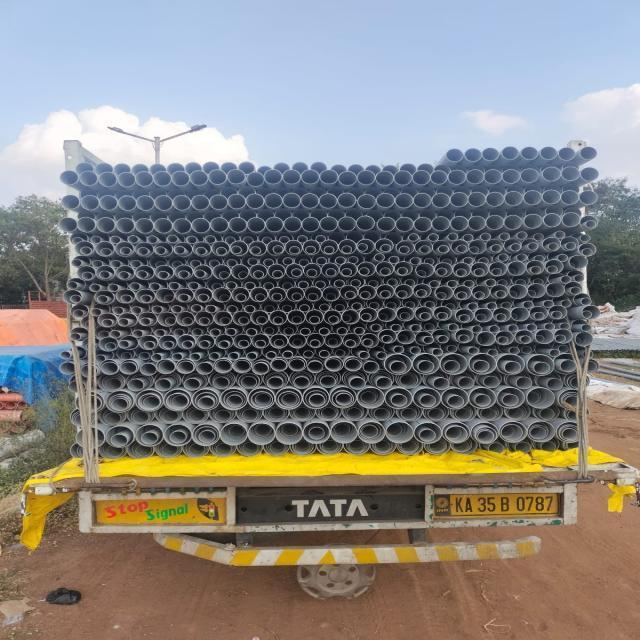pipe: (498, 421, 531, 446), (414, 422, 444, 448), (526, 421, 557, 446), (525, 352, 556, 376), (75, 391, 104, 416), (443, 422, 474, 445), (386, 419, 413, 445), (359, 421, 387, 446), (105, 426, 135, 449), (496, 353, 526, 376), (413, 353, 441, 377), (134, 425, 163, 448), (192, 389, 221, 412), (558, 389, 587, 412), (468, 353, 497, 376), (440, 353, 469, 376), (105, 391, 135, 413), (385, 388, 416, 409), (471, 422, 499, 445), (414, 388, 442, 411), (275, 423, 303, 446), (470, 388, 498, 411), (220, 423, 248, 446), (496, 388, 525, 410), (192, 423, 221, 445), (164, 423, 193, 445), (220, 389, 249, 411), (163, 389, 191, 411), (442, 389, 471, 410), (155, 439, 184, 460), (135, 390, 164, 411), (331, 422, 358, 444), (303, 423, 330, 445), (528, 387, 555, 409), (357, 387, 386, 407), (331, 387, 357, 409), (209, 370, 235, 392), (275, 388, 302, 409), (386, 354, 413, 375), (75, 428, 106, 446), (564, 373, 593, 392), (367, 367, 396, 386), (557, 422, 582, 444), (249, 423, 274, 445), (250, 388, 276, 409), (304, 388, 330, 409), (237, 370, 264, 390), (533, 372, 564, 389), (344, 435, 370, 455), (553, 354, 579, 374), (208, 405, 238, 422), (181, 373, 209, 391), (395, 438, 424, 455), (476, 403, 505, 420), (126, 406, 155, 423), (450, 404, 477, 422), (342, 403, 369, 421), (264, 371, 291, 389), (291, 438, 319, 455), (127, 442, 155, 459), (315, 369, 343, 386), (59, 288, 87, 305), (317, 438, 344, 455), (263, 440, 290, 457), (368, 404, 395, 421), (342, 370, 369, 387), (288, 370, 315, 387), (560, 391, 585, 409), (155, 373, 180, 391), (370, 440, 398, 456), (100, 443, 128, 459), (396, 406, 424, 422), (372, 371, 394, 391), (54, 168, 77, 187), (504, 403, 533, 418), (445, 426, 469, 444), (425, 439, 452, 455), (236, 406, 263, 422), (316, 405, 343, 421), (237, 439, 262, 456), (211, 440, 236, 457), (531, 440, 563, 453), (422, 371, 448, 387), (66, 326, 92, 342), (475, 427, 498, 445), (195, 392, 218, 410), (151, 194, 174, 212), (500, 424, 524, 441), (107, 395, 131, 412), (423, 406, 450, 421), (352, 261, 377, 277), (356, 214, 377, 233), (167, 393, 189, 411), (211, 263, 233, 281), (332, 391, 355, 408), (396, 374, 422, 389), (194, 426, 218, 442), (138, 393, 162, 409), (135, 170, 154, 190), (358, 194, 378, 213), (156, 409, 183, 423), (290, 407, 317, 421), (292, 372, 313, 390), (534, 407, 563, 420), (264, 406, 289, 421), (226, 241, 251, 256), (244, 242, 269, 257), (174, 311, 196, 328), (169, 194, 191, 211), (301, 264, 323, 281), (75, 266, 97, 283), (223, 391, 246, 407), (533, 330, 556, 346), (320, 287, 343, 303), (134, 217, 153, 236), (228, 193, 247, 212), (291, 438, 315, 453), (184, 408, 208, 423), (287, 357, 311, 372), (496, 329, 516, 347), (510, 303, 530, 321), (136, 312, 160, 327), (153, 170, 171, 190), (190, 194, 210, 212), (319, 192, 339, 210), (72, 242, 96, 257), (212, 240, 232, 258), (303, 286, 323, 304), (430, 192, 451, 209), (116, 263, 137, 280), (305, 391, 327, 407), (156, 359, 178, 375), (579, 304, 601, 320), (152, 242, 174, 258), (133, 264, 155, 280), (454, 439, 479, 453), (386, 422, 409, 437), (251, 392, 274, 407), (278, 392, 301, 407), (98, 337, 121, 352), (169, 255, 192, 270), (93, 291, 116, 306), (140, 334, 159, 352), (555, 328, 574, 346), (100, 170, 118, 189), (413, 169, 432, 187), (581, 189, 599, 208), (561, 235, 580, 253), (565, 280, 584, 298), (245, 193, 264, 211), (301, 192, 320, 210), (338, 192, 357, 210), (377, 193, 395, 212), (115, 241, 134, 259), (339, 261, 358, 279), (287, 285, 305, 304), (362, 332, 379, 352), (226, 169, 246, 186), (489, 284, 509, 301), (568, 374, 589, 390), (451, 373, 475, 387), (514, 330, 535, 346), (118, 312, 139, 328), (172, 243, 193, 259), (398, 440, 420, 455), (456, 309, 478, 324), (432, 306, 454, 321), (192, 242, 214, 257), (237, 375, 262, 388), (79, 170, 97, 188), (119, 171, 137, 189), (338, 215, 356, 233), (320, 216, 338, 234), (231, 263, 249, 281), (306, 358, 325, 375), (326, 356, 345, 373), (378, 308, 397, 325), (209, 169, 228, 186), (114, 160, 133, 177), (148, 162, 167, 179), (376, 171, 395, 188), (468, 191, 487, 208), (570, 254, 589, 271), (247, 217, 266, 234), (135, 242, 154, 259), (176, 287, 195, 304), (94, 312, 117, 326), (561, 426, 581, 442), (344, 404, 364, 420), (177, 334, 197, 350), (252, 334, 272, 350), (269, 333, 289, 349), (264, 170, 284, 186), (301, 168, 321, 184), (357, 171, 377, 187), (523, 190, 543, 206), (489, 262, 509, 278), (96, 217, 116, 233), (283, 193, 303, 209), (416, 241, 436, 257), (320, 263, 340, 279), (174, 265, 194, 281), (212, 288, 232, 304), (215, 357, 236, 372), (214, 334, 235, 349), (232, 312, 253, 327), (282, 169, 303, 184), (541, 167, 562, 182), (546, 282, 567, 297), (190, 217, 211, 232), (412, 283, 433, 298), (505, 406, 529, 419), (186, 443, 210, 456), (543, 261, 567, 274), (132, 443, 154, 457), (233, 359, 255, 373), (546, 250, 568, 264), (399, 328, 417, 345), (455, 329, 473, 346), (342, 310, 360, 327), (482, 145, 500, 162), (451, 191, 469, 208), (453, 261, 471, 278), (417, 261, 435, 278), (195, 264, 212, 282), (514, 441, 533, 457), (158, 334, 177, 350), (290, 333, 309, 349), (306, 333, 325, 349), (551, 305, 570, 321), (339, 171, 358, 187), (525, 214, 544, 230), (528, 283, 547, 299), (264, 194, 283, 210), (415, 193, 434, 209), (250, 266, 269, 282), (360, 425, 380, 440), (318, 372, 338, 387), (266, 373, 286, 388), (511, 308, 531, 323), (218, 161, 238, 176), (579, 242, 599, 257), (542, 237, 562, 252), (377, 218, 397, 233), (228, 217, 248, 232), (173, 219, 193, 234), (120, 195, 135, 215), (266, 241, 286, 256), (357, 239, 377, 254), (395, 241, 415, 256), (433, 240, 453, 255), (149, 255, 169, 270), (188, 254, 208, 269), (259, 255, 279, 270), (157, 287, 177, 302), (250, 288, 270, 303), (420, 276, 443, 289), (74, 162, 95, 176), (77, 217, 98, 231), (277, 254, 298, 268), (136, 289, 157, 303), (380, 329, 397, 346), (544, 212, 561, 229), (486, 214, 503, 231), (486, 239, 503, 256), (435, 261, 452, 278), (477, 331, 495, 347), (494, 307, 512, 323), (360, 307, 378, 323), (174, 171, 192, 187), (503, 169, 521, 185), (524, 144, 540, 162), (505, 215, 523, 231), (522, 238, 540, 254), (472, 262, 490, 278), (470, 216, 488, 232), (414, 216, 432, 232), (294, 254, 312, 270), (154, 266, 170, 284), (344, 373, 366, 386), (206, 256, 228, 269), (402, 255, 424, 268), (327, 276, 349, 289), (419, 428, 438, 443), (293, 405, 312, 420), (560, 358, 579, 373), (214, 374, 233, 389), (530, 307, 549, 322), (237, 161, 256, 176), (247, 173, 266, 188), (319, 170, 338, 185), (448, 171, 467, 186), (561, 191, 580, 206), (504, 239, 523, 254), (451, 240, 470, 255), (302, 217, 321, 232), (60, 195, 79, 210), (100, 195, 119, 210), (209, 196, 228, 211), (284, 241, 303, 256), (397, 261, 416, 276), (375, 262, 394, 277), (188, 408, 208, 422), (70, 304, 90, 318), (510, 285, 530, 299), (202, 233, 222, 247), (193, 288, 213, 302), (91, 304, 114, 316), (318, 407, 339, 420), (371, 406, 392, 419), (570, 376, 591, 389), (176, 360, 197, 373), (102, 378, 123, 391), (277, 323, 298, 336), (84, 361, 101, 377), (325, 333, 342, 349), (397, 306, 414, 322), (288, 310, 305, 326), (503, 145, 520, 161), (544, 190, 561, 206), (434, 216, 451, 232), (267, 217, 284, 233), (321, 241, 338, 257), (455, 285, 472, 301), (475, 393, 493, 408), (415, 331, 433, 346), (324, 310, 342, 325), (184, 162, 202, 177), (447, 148, 465, 163), (487, 192, 505, 207), (563, 213, 581, 228), (508, 261, 526, 276), (284, 217, 302, 232), (81, 195, 99, 210), (396, 194, 414, 209), (339, 240, 357, 255), (359, 285, 377, 300), (333, 423, 352, 437), (169, 431, 188, 445), (325, 358, 344, 372), (101, 361, 120, 375), (249, 311, 268, 325), (167, 162, 186, 176), (504, 192, 523, 206), (451, 217, 470, 231), (385, 232, 404, 246), (267, 264, 286, 278), (225, 276, 244, 290), (261, 277, 280, 291), (339, 286, 358, 300), (419, 294, 438, 308), (109, 256, 131, 268), (390, 394, 410, 407), (529, 426, 549, 439), (109, 397, 129, 410), (473, 309, 493, 322), (304, 310, 324, 323), (213, 311, 233, 324), (439, 255, 459, 268), (187, 276, 207, 289), (109, 279, 129, 292), (364, 297, 384, 310), (418, 359, 435, 374), (254, 360, 271, 375), (122, 333, 139, 348), (344, 334, 361, 349), (576, 331, 593, 346), (192, 171, 209, 186), (431, 171, 448, 186), (465, 147, 482, 162), (468, 171, 485, 186), (486, 171, 503, 186), (540, 146, 557, 161), (563, 167, 580, 182), (472, 285, 489, 300), (455, 286, 472, 301), (211, 218, 228, 233), (98, 242, 115, 257), (377, 239, 394, 254), (69, 257, 92, 268), (256, 234, 279, 245), (503, 361, 524, 373), (443, 359, 461, 373), (376, 377, 394, 391), (345, 358, 363, 372), (344, 359, 362, 373), (234, 334, 252, 348), (308, 160, 329, 172), (394, 172, 412, 186), (522, 170, 540, 184), (582, 169, 600, 183), (580, 216, 601, 228), (526, 206, 547, 218), (469, 240, 487, 254), (117, 218, 135, 232), (93, 256, 111, 270), (148, 234, 169, 246), (303, 241, 321, 255), (132, 256, 150, 270), (129, 280, 150, 292), (150, 279, 171, 291), (365, 275, 383, 289), (435, 286, 453, 300), (545, 378, 564, 391), (533, 362, 552, 375), (433, 377, 452, 390), (443, 277, 462, 290), (280, 425, 300, 437), (184, 378, 200, 393), (195, 335, 215, 347), (417, 305, 432, 321), (200, 311, 215, 327), (273, 162, 293, 174), (580, 146, 596, 161), (154, 221, 174, 233), (138, 197, 154, 212), (68, 232, 88, 244), (233, 288, 249, 303), (347, 299, 367, 311), (272, 358, 289, 372), (96, 162, 113, 176), (402, 295, 419, 309), (478, 430, 496, 443), (420, 395, 438, 408), (308, 428, 326, 441), (488, 442, 506, 455), (502, 394, 520, 407), (455, 407, 473, 420), (141, 433, 159, 446), (110, 434, 128, 447), (197, 397, 215, 410), (400, 408, 418, 421), (360, 392, 378, 405), (565, 395, 583, 408), (362, 361, 380, 374), (320, 376, 338, 389), (138, 361, 156, 374), (60, 362, 78, 375), (159, 312, 177, 325), (398, 219, 416, 232), (314, 299, 332, 312), (395, 284, 413, 297), (309, 233, 332, 243), (428, 441, 447, 453), (482, 376, 501, 388), (266, 378, 285, 390), (297, 322, 316, 334), (132, 163, 151, 175), (203, 162, 222, 174), (294, 233, 313, 245), (224, 256, 243, 268), (168, 278, 187, 290), (116, 290, 135, 302), (376, 286, 395, 298), (474, 360, 489, 375), (197, 362, 213, 376), (271, 310, 287, 324), (559, 147, 575, 161), (458, 254, 474, 268), (375, 441, 392, 454), (214, 410, 231, 423), (293, 377, 310, 390), (434, 329, 451, 342), (60, 219, 77, 232), (271, 287, 288, 300), (402, 274, 419, 287), (191, 349, 211, 360), (208, 350, 228, 361), (112, 303, 134, 313), (184, 234, 204, 245), (363, 232, 383, 243), (419, 256, 441, 266), (348, 440, 366, 452), (189, 444, 207, 456), (105, 414, 123, 426), (143, 397, 161, 409), (133, 411, 151, 423), (208, 324, 226, 336), (261, 301, 279, 313), (475, 276, 493, 288), (346, 232, 364, 244), (243, 278, 261, 290), (341, 286, 359, 298), (126, 378, 147, 388), (298, 299, 313, 313), (334, 298, 349, 312), (228, 426, 247, 437), (214, 444, 233, 455), (92, 234, 111, 245), (128, 235, 147, 246), (531, 426, 547, 439), (256, 425, 272, 438), (336, 393, 352, 406), (517, 376, 533, 389), (391, 360, 407, 373), (242, 234, 258, 247), (279, 277, 295, 290), (448, 396, 465, 408), (322, 441, 339, 453), (162, 444, 179, 456), (401, 374, 418, 386), (349, 378, 366, 390), (241, 376, 258, 388), (350, 323, 367, 335), (227, 302, 244, 314), (460, 299, 477, 311), (452, 441, 470, 452), (198, 431, 216, 442), (105, 446, 123, 457), (306, 361, 324, 372), (564, 209, 582, 220), (329, 233, 347, 244), (96, 267, 114, 278), (541, 443, 556, 456), (136, 444, 151, 457), (385, 272, 398, 287), (429, 408, 445, 420), (270, 442, 286, 454), (112, 399, 128, 411), (227, 395, 243, 407), (310, 395, 326, 407), (155, 379, 171, 391), (120, 362, 136, 374), (216, 339, 232, 351), (553, 229, 569, 241), (350, 253, 366, 265), (333, 255, 349, 267), (70, 277, 86, 289), (562, 162, 581, 172), (243, 256, 262, 266), (387, 425, 404, 436), (374, 409, 391, 420), (458, 379, 475, 390), (289, 360, 306, 371), (243, 301, 260, 312), (400, 164, 417, 175), (207, 279, 224, 290), (584, 360, 598, 373), (563, 428, 578, 440), (480, 409, 498, 419), (243, 442, 258, 454), (190, 410, 205, 422), (256, 393, 271, 405), (322, 408, 337, 420), (215, 377, 230, 389), (70, 381, 85, 393), (316, 325, 334, 335), (330, 163, 348, 173), (349, 164, 367, 174), (418, 163, 436, 173), (521, 165, 541, 174), (546, 206, 564, 216), (167, 235, 185, 245), (223, 235, 243, 244), (279, 233, 297, 243), (297, 277, 312, 289), (316, 278, 331, 290), (350, 275, 365, 287), (383, 298, 401, 308), (540, 409, 556, 420), (243, 409, 259, 420), (283, 394, 299, 405), (507, 408, 524, 418), (332, 324, 349, 334), (504, 165, 521, 175), (427, 231, 440, 244), (560, 299, 574, 311), (407, 232, 419, 246), (402, 441, 417, 452), (295, 408, 310, 419), (347, 408, 362, 419), (437, 164, 452, 175), (112, 232, 127, 243), (292, 163, 310, 172), (163, 411, 179, 421), (269, 408, 285, 418), (103, 341, 119, 351), (118, 340, 134, 350), (225, 326, 245, 334), (527, 390, 540, 402), (146, 235, 159, 247), (443, 298, 456, 310), (506, 346, 520, 357), (315, 254, 329, 265), (65, 282, 79, 293), (468, 164, 485, 173), (508, 208, 525, 217), (489, 209, 506, 218), (262, 326, 281, 334), (397, 333, 412, 343), (485, 348, 500, 358), (237, 316, 252, 326), (154, 329, 169, 339), (383, 165, 398, 175), (514, 253, 529, 263), (462, 233, 477, 243), (79, 246, 94, 256), (172, 245, 187, 255), (229, 246, 244, 256), (435, 267, 450, 277), (266, 350, 278, 362), (190, 329, 206, 338), (365, 165, 381, 174), (486, 164, 504, 172), (271, 269, 284, 280), (135, 269, 148, 280), (162, 340, 176, 350), (181, 340, 195, 350), (362, 338, 376, 348), (500, 335, 514, 345), (164, 316, 178, 326), (532, 232, 546, 242), (118, 246, 132, 256), (95, 294, 109, 304), (177, 293, 191, 303), (244, 329, 261, 337), (58, 351, 73, 360), (68, 333, 83, 342), (580, 323, 595, 332), (580, 297, 595, 306), (204, 304, 219, 313), (453, 164, 468, 173), (171, 260, 186, 269), (120, 294, 135, 303), (410, 345, 422, 356), (431, 347, 443, 358), (570, 286, 581, 298), (476, 290, 487, 302), (337, 255, 349, 266), (197, 292, 209, 303), (358, 351, 371, 361), (446, 344, 459, 354), (199, 340, 212, 350), (150, 353, 163, 363), (291, 337, 304, 347), (335, 348, 348, 358), (345, 338, 358, 348), (522, 344, 535, 354), (535, 333, 548, 343), (191, 304, 204, 314), (281, 304, 294, 314), (582, 248, 595, 258), (528, 242, 541, 252), (474, 267, 487, 277), (195, 268, 205, 281), (107, 331, 123, 339), (257, 166, 273, 174), (205, 354, 223, 361), (458, 334, 472, 343), (218, 316, 232, 325), (98, 331, 112, 340), (151, 305, 165, 314), (516, 231, 530, 240), (531, 266, 545, 275), (189, 352, 200, 363), (118, 270, 129, 281), (291, 292, 302, 303), (430, 279, 441, 290), (119, 351, 134, 359), (172, 352, 184, 362), (137, 352, 152, 360), (239, 338, 251, 348), (437, 334, 449, 344), (466, 347, 481, 355), (520, 335, 532, 345), (475, 312, 487, 322), (480, 232, 492, 242), (501, 301, 513, 311), (421, 245, 433, 255), (438, 244, 450, 254), (204, 235, 216, 245), (248, 247, 263, 255), (274, 245, 286, 255), (208, 260, 223, 268), (224, 259, 239, 267), (397, 267, 409, 277), (166, 282, 181, 290), (219, 294, 231, 304), (300, 352, 317, 359), (567, 412, 580, 421), (273, 338, 286, 347), (327, 338, 340, 347), (472, 325, 485, 334), (523, 299, 536, 308), (437, 311, 450, 320), (495, 290, 508, 299), (195, 247, 208, 256), (109, 260, 122, 269), (374, 253, 387, 262), (389, 255, 402, 264), (157, 271, 170, 280), (308, 293, 321, 302), (325, 293, 338, 302), (345, 290, 358, 299), (246, 352, 260, 360), (422, 336, 436, 344), (227, 305, 241, 313), (578, 233, 592, 241), (107, 284, 121, 292), (324, 269, 338, 277), (548, 242, 559, 252), (558, 253, 569, 263), (138, 247, 149, 257), (155, 246, 166, 256), (350, 255, 361, 265), (448, 279, 458, 290), (544, 299, 556, 308), (141, 317, 153, 326), (471, 186, 489, 192), (499, 232, 511, 241), (491, 243, 503, 252), (533, 255, 545, 264), (514, 278, 526, 287), (485, 278, 497, 287), (91, 259, 103, 268), (92, 235, 104, 244), (109, 235, 121, 244), (216, 247, 228, 256), (411, 257, 423, 266), (358, 266, 370, 275), (341, 268, 353, 277), (291, 268, 303, 277), (262, 281, 274, 290), (228, 352, 243, 359), (182, 317, 197, 324), (116, 320, 131, 327), (245, 304, 260, 311), (375, 352, 388, 360), (310, 340, 323, 348), (447, 323, 460, 331), (411, 324, 424, 332), (390, 323, 403, 331), (337, 327, 350, 335), (318, 328, 331, 336), (308, 315, 321, 323), (255, 315, 268, 323), (171, 328, 184, 336), (72, 309, 85, 317), (486, 302, 499, 310), (323, 246, 336, 254), (263, 258, 276, 266), (424, 259, 437, 267), (130, 283, 143, 291), (271, 293, 284, 301), (366, 281, 379, 289), (415, 290, 428, 298), (460, 313, 470, 323), (402, 245, 412, 255), (167, 235, 177, 245), (187, 236, 197, 246), (243, 235, 253, 245), (211, 281, 221, 291), (381, 290, 391, 300), (256, 340, 267, 349), (400, 311, 411, 320), (102, 318, 113, 327), (548, 265, 559, 274), (449, 232, 460, 241), (71, 258, 82, 267), (156, 260, 167, 269), (253, 271, 264, 280), (178, 271, 189, 280), (82, 270, 93, 279), (235, 294, 246, 303), (541, 164, 555, 171), (224, 236, 238, 243), (149, 285, 163, 292), (225, 281, 239, 288), (88, 284, 102, 291), (386, 303, 400, 310), (144, 341, 156, 349), (382, 334, 394, 342), (556, 335, 568, 343), (583, 310, 595, 318), (371, 324, 383, 332), (300, 327, 312, 335), (283, 326, 295, 334), (130, 306, 142, 314), (510, 243, 522, 251), (469, 302, 481, 310), (72, 238, 84, 246), (262, 236, 274, 244), (190, 259, 202, 267), (217, 271, 229, 279), (559, 346, 572, 353), (342, 315, 355, 322), (225, 327, 238, 334), (133, 330, 146, 337), (463, 280, 476, 287), (456, 268, 469, 275), (415, 271, 428, 278), (329, 315, 339, 324), (210, 328, 220, 337), (198, 316, 208, 325), (497, 254, 512, 260), (562, 276, 572, 285), (509, 289, 519, 298), (458, 244, 468, 253), (283, 257, 293, 266), (351, 302, 361, 311), (282, 351, 293, 359), (552, 310, 563, 318), (534, 313, 545, 321), (496, 313, 507, 321), (361, 314, 372, 322), (91, 308, 102, 316), (115, 305, 126, 313), (565, 241, 576, 249), (381, 244, 392, 252), (100, 248, 111, 256), (280, 235, 291, 243), (289, 246, 300, 254), (297, 235, 308, 243), (306, 246, 317, 254), (342, 245, 353, 253), (247, 258, 258, 266), (283, 282, 294, 290), (316, 281, 327, 289), (263, 305, 274, 313), (398, 290, 409, 298), (438, 291, 449, 299), (561, 323, 573, 330), (507, 324, 519, 331), (272, 317, 284, 324), (532, 278, 544, 285), (529, 289, 541, 296), (357, 244, 369, 251), (299, 282, 311, 289), (140, 294, 152, 301), (393, 346, 403, 354), (320, 351, 330, 359), (381, 312, 391, 320), (492, 267, 502, 275), (498, 279, 508, 287), (472, 245, 482, 253), (131, 260, 141, 268), (465, 257, 475, 265), (382, 268, 392, 276), (172, 306, 185, 312), (544, 323, 555, 330), (528, 324, 539, 331), (354, 327, 365, 334), (127, 236, 138, 243), (316, 235, 327, 242), (190, 282, 201, 289), (72, 295, 83, 302), (166, 295, 177, 302), (255, 294, 266, 301), (320, 305, 331, 312), (586, 221, 598, 227), (444, 260, 453, 268), (299, 305, 308, 313), (361, 292, 370, 300), (447, 303, 456, 311), (422, 313, 432, 320), (265, 328, 275, 335), (575, 275, 585, 282), (102, 271, 109, 281), (335, 304, 345, 311), (458, 291, 468, 298), (478, 257, 489, 263), (94, 356, 107, 361), (423, 323, 431, 331), (336, 280, 344, 288), (405, 279, 414, 286), (406, 301, 415, 308), (292, 316, 302, 322), (506, 268, 518, 273), (247, 282, 257, 288), (352, 281, 360, 288), (389, 278, 397, 285), (426, 300, 434, 307), (370, 303, 379, 309)
